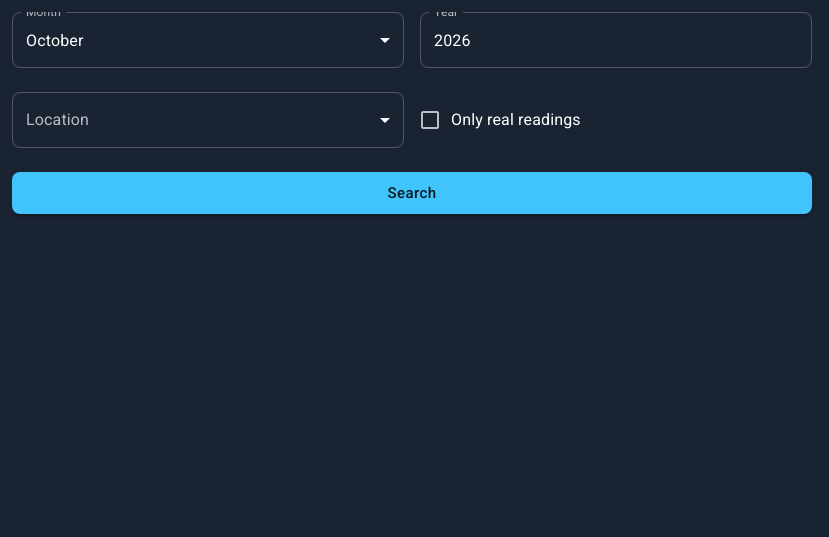
it: RainlogFilters › Interactive Features › month dropdown shows all 12 translated month names
Click the dropdown named "Month". click: [55, 40]
box: [26,30,84,50]
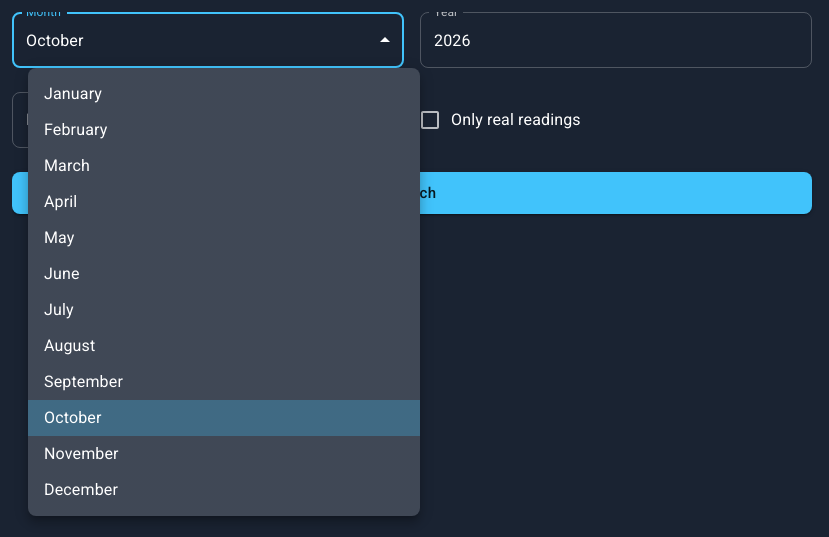
expect the option "January" is shown: met, box [44,84,102,103]
expect the option "February" is shown: met, box [44,120,107,139]
expect the option "March" is shown: met, box [44,156,90,175]
